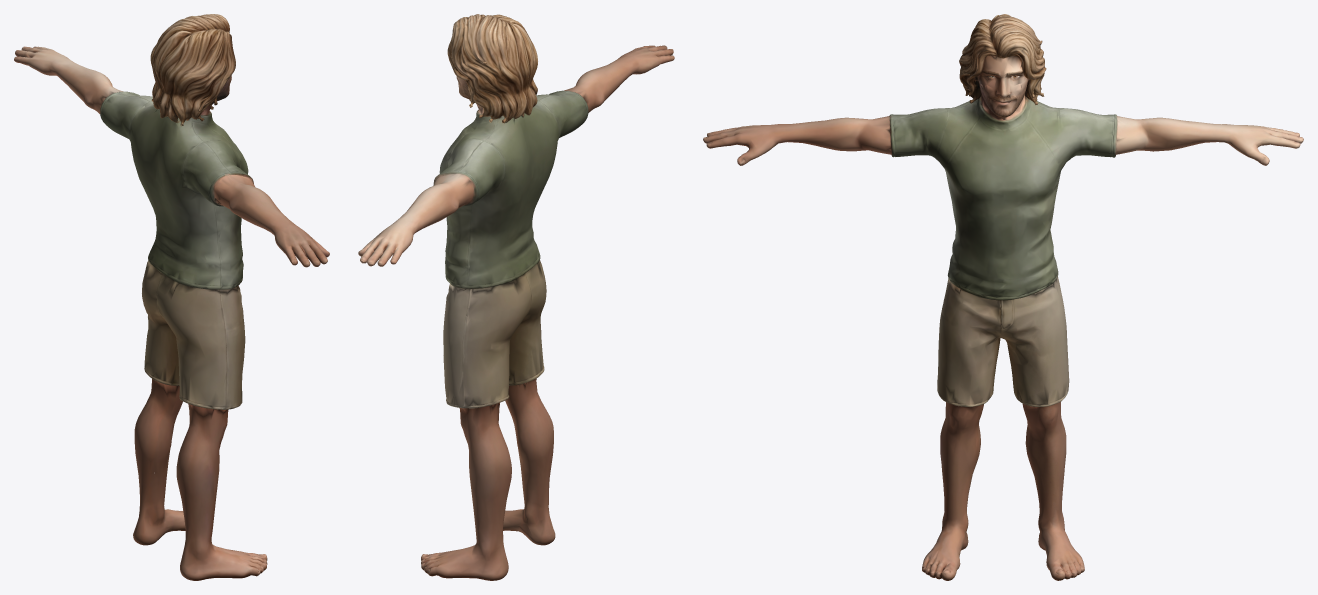
The model's file is the-soul.glb.
The picture shows the model from 3 angles, left to right: view 1: azimuth 30°, elevation 25°; view 2: azimuth 150°, elevation 25°; view 3: azimuth 270°, elevation 25°; orthographic projection.
Parts seen in each view (by area): view 1: the-soul; view 2: the-soul; view 3: the-soul.
Part boxes in pixels (x1,y1,x2,y2): the-soul: (14,14,329,580); the-soul: (358,14,674,580); the-soul: (703,14,1303,580).
Bounding box in the file's own units: 0.1684 × 0.9784 × 0.9799.
1 material, 1 textured.
